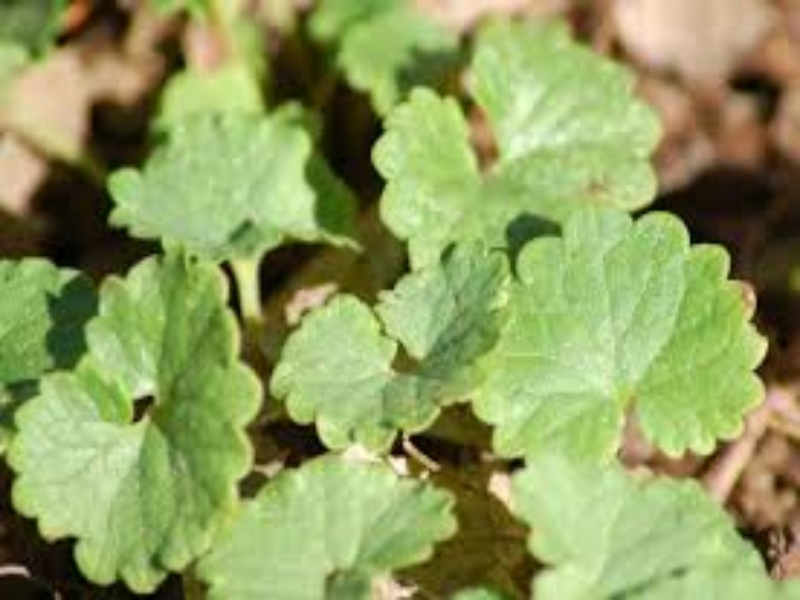weed: (11, 264, 264, 551), (489, 222, 771, 478), (378, 41, 673, 270), (120, 73, 369, 290), (284, 266, 502, 469)
